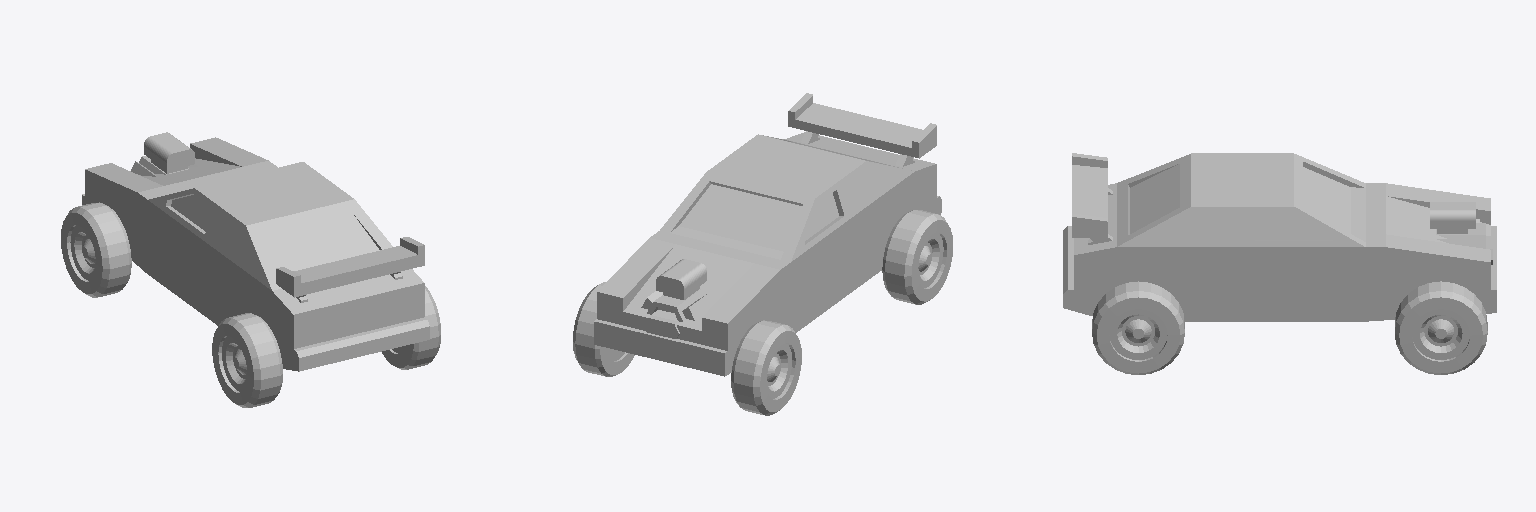
File: RaceCar.obj
3 views of the same model, side by side, from view 1: azimuth 30°, elevation 25°; view 2: azimuth 150°, elevation 25°; view 3: azimuth 270°, elevation 25° (orthographic).
Bounding box in the file's own units: 1.43 × 1.11 × 2.87.